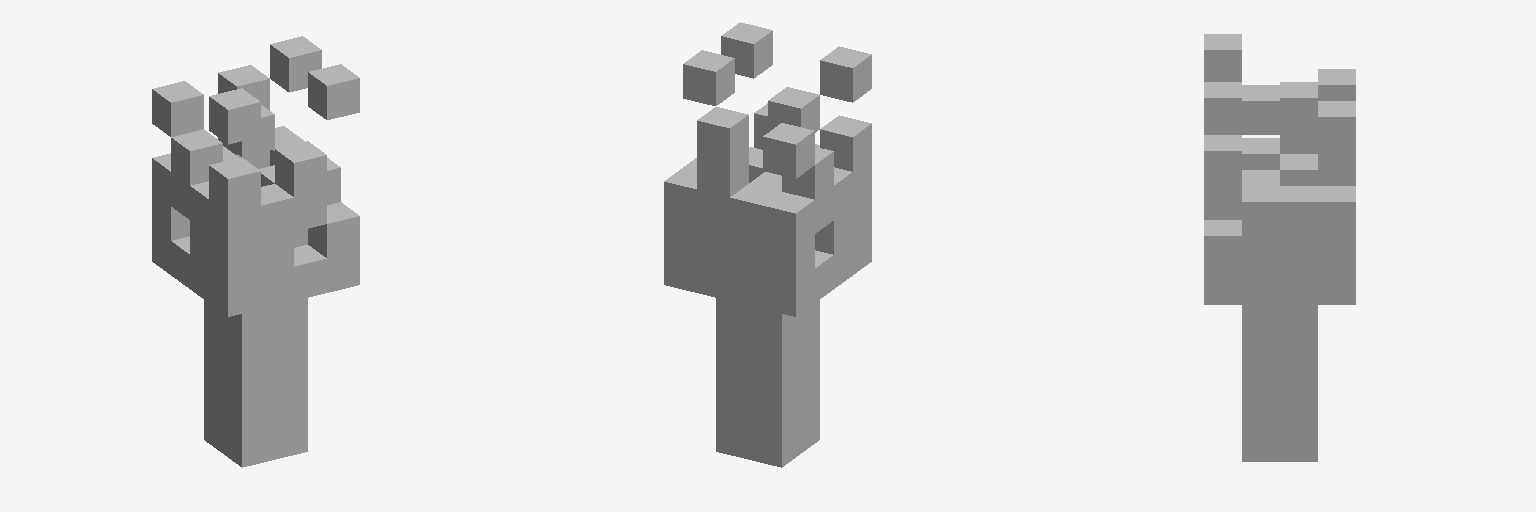
File: Torch.obj
3 views of the same model, side by side, from view 1: azimuth 30°, elevation 25°; view 2: azimuth 150°, elevation 25°; view 3: azimuth 270°, elevation 25° (orthographic).
Visible parts, largest first — view 1: object 1; view 2: object 1; view 3: object 1.
Boxes of the visible parts, box(x1,y1,x2,y2) form: object 1: box(152, 36, 359, 467); object 1: box(664, 22, 871, 467); object 1: box(1204, 34, 1355, 461).
Bounding box in the file's own units: 0.4 × 1.1 × 0.4.